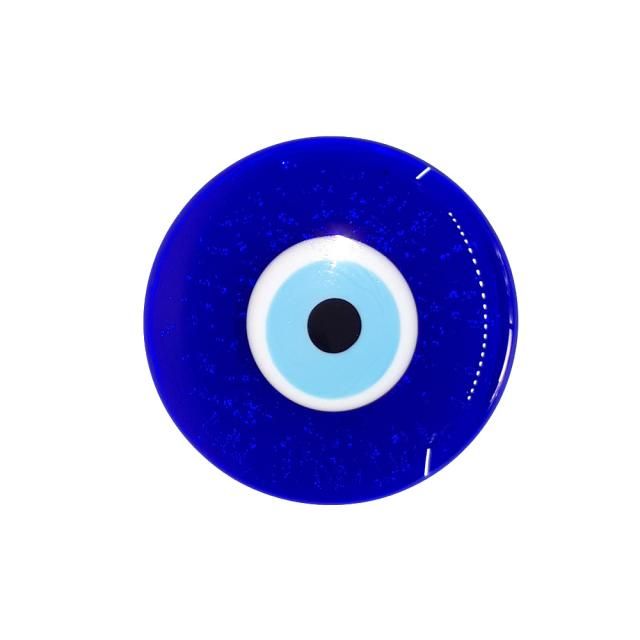Nazar-Boncugu: (146, 138, 519, 507)
